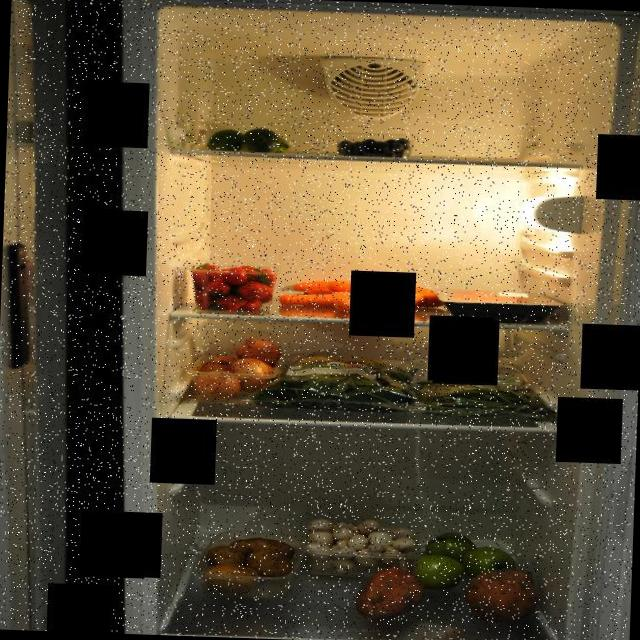Carne vacuno: (440, 288, 564, 324)
Cebolla: (185, 335, 282, 406)
Champiñones: (300, 516, 412, 578)
Manzana: (410, 526, 518, 592)
Patata: (199, 526, 302, 604)
Zanahoria: (278, 274, 447, 316)
blueberries: (331, 130, 422, 158)
green_beans: (417, 355, 568, 425)
spinach: (247, 352, 423, 414)
strawberries: (188, 261, 278, 314)
sweet_potato: (464, 566, 544, 624), (354, 561, 428, 621)
